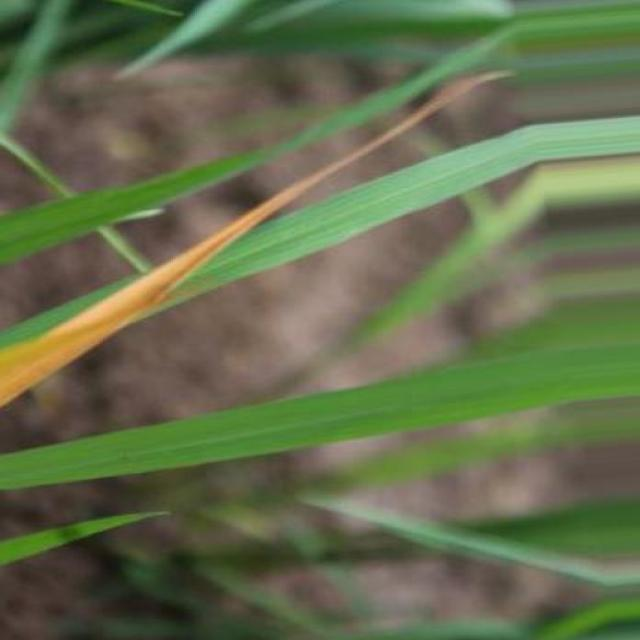Rice Tungro: (0, 72, 507, 404)
